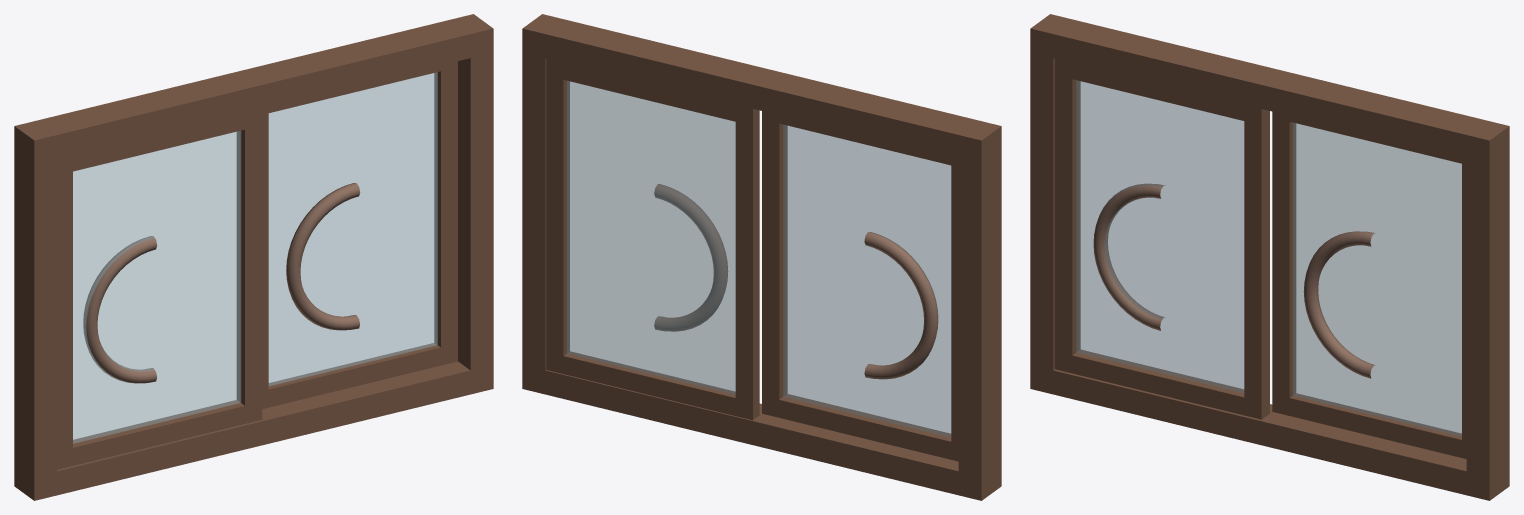
3 renders of one model, left to right at view 1: azimuth 30°, elevation 25°; view 2: azimuth 150°, elevation 25°; view 3: azimuth 330°, elevation 25°, orthographic.
Parts seen in each view (by area): view 1: movingGlass, fixedGlass, outer-top, outer-left, outer-bottom, outer-right, sash-right, fixed-sash-right, sash-left, sash-bottom, fixed-sash-bottom, fixed-sash-rounded-accent (+4 smaller); view 2: fixedGlass, movingGlass, outer-top, outer-left, outer-bottom, outer-right, sash-right, fixed-sash-left, fixed-sash-right, fixed-sash-bottom, sash-bottom, fixed-sash-top (+4 smaller); view 3: movingGlass, fixedGlass, outer-top, outer-right, outer-bottom, outer-left, sash-right, sash-left, fixed-sash-left, sash-bottom, fixed-sash-bottom, sash-top (+4 smaller).
Boxes of the visible parts, x1,y1,x2,y2 form: movingGlass: [73, 130, 240, 443]; fixedGlass: [268, 72, 437, 386]; outer-top: [14, 19, 470, 164]; outer-left: [14, 120, 57, 500]; outer-bottom: [14, 361, 493, 500]; outer-right: [451, 14, 493, 394]; sash-right: [236, 109, 262, 423]; fixed-sash-right: [434, 67, 457, 364]; sash-left: [57, 155, 72, 469]; sash-bottom: [57, 400, 244, 467]; fixed-sash-bottom: [262, 343, 457, 408]; fixed-sash-rounded-accent: [286, 183, 360, 330]; fixedGlass: [567, 81, 735, 394]; movingGlass: [783, 125, 951, 437]; outer-top: [522, 19, 1001, 164]; outer-left: [958, 120, 1001, 500]; outer-bottom: [522, 365, 1001, 500]; outer-right: [522, 14, 564, 394]; sash-right: [762, 111, 787, 417]; fixed-sash-left: [735, 104, 759, 420]; fixed-sash-right: [546, 58, 569, 373]; fixed-sash-bottom: [546, 351, 759, 419]; sash-bottom: [762, 394, 958, 461]; fixed-sash-top: [546, 59, 759, 125]; movingGlass: [1076, 80, 1244, 392]; fixedGlass: [1293, 122, 1461, 436]; outer-top: [1030, 19, 1509, 164]; outer-right: [1466, 120, 1509, 500]; outer-bottom: [1030, 365, 1509, 500]; outer-left: [1030, 14, 1072, 394]; sash-right: [1244, 105, 1269, 419]; sash-left: [1055, 58, 1080, 372]; fixed-sash-left: [1272, 116, 1295, 411]; sash-bottom: [1055, 349, 1269, 418]; fixed-sash-bottom: [1272, 393, 1461, 457]; sash-top: [1057, 60, 1267, 124].
Size of the model in its own units: 1.6 by 1.2 by 0.12.
